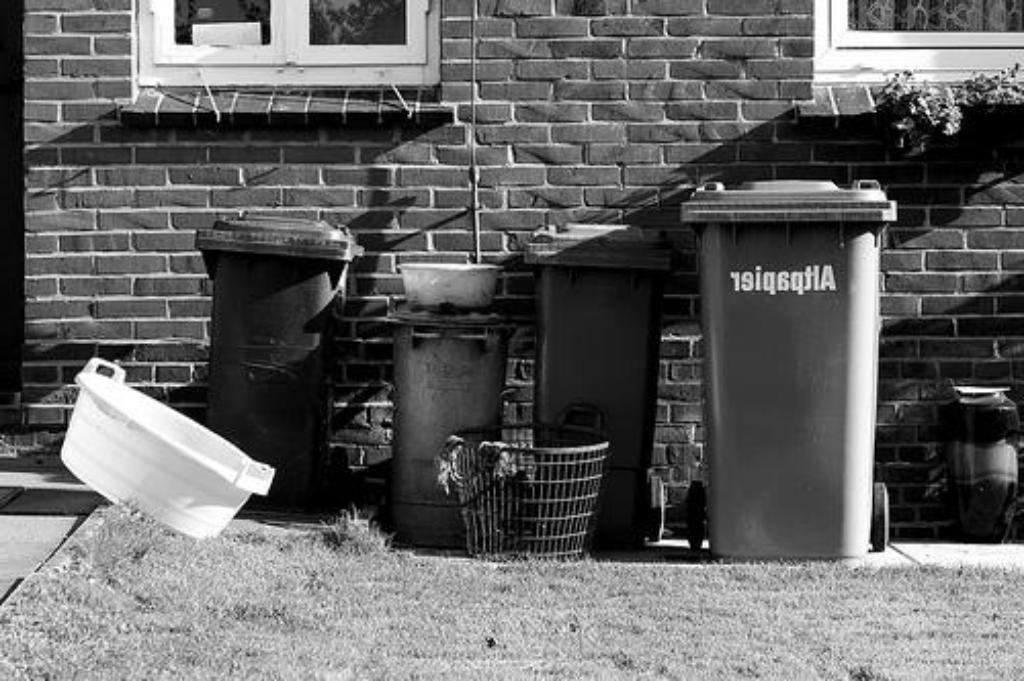dustbin: (671, 173, 900, 567)
